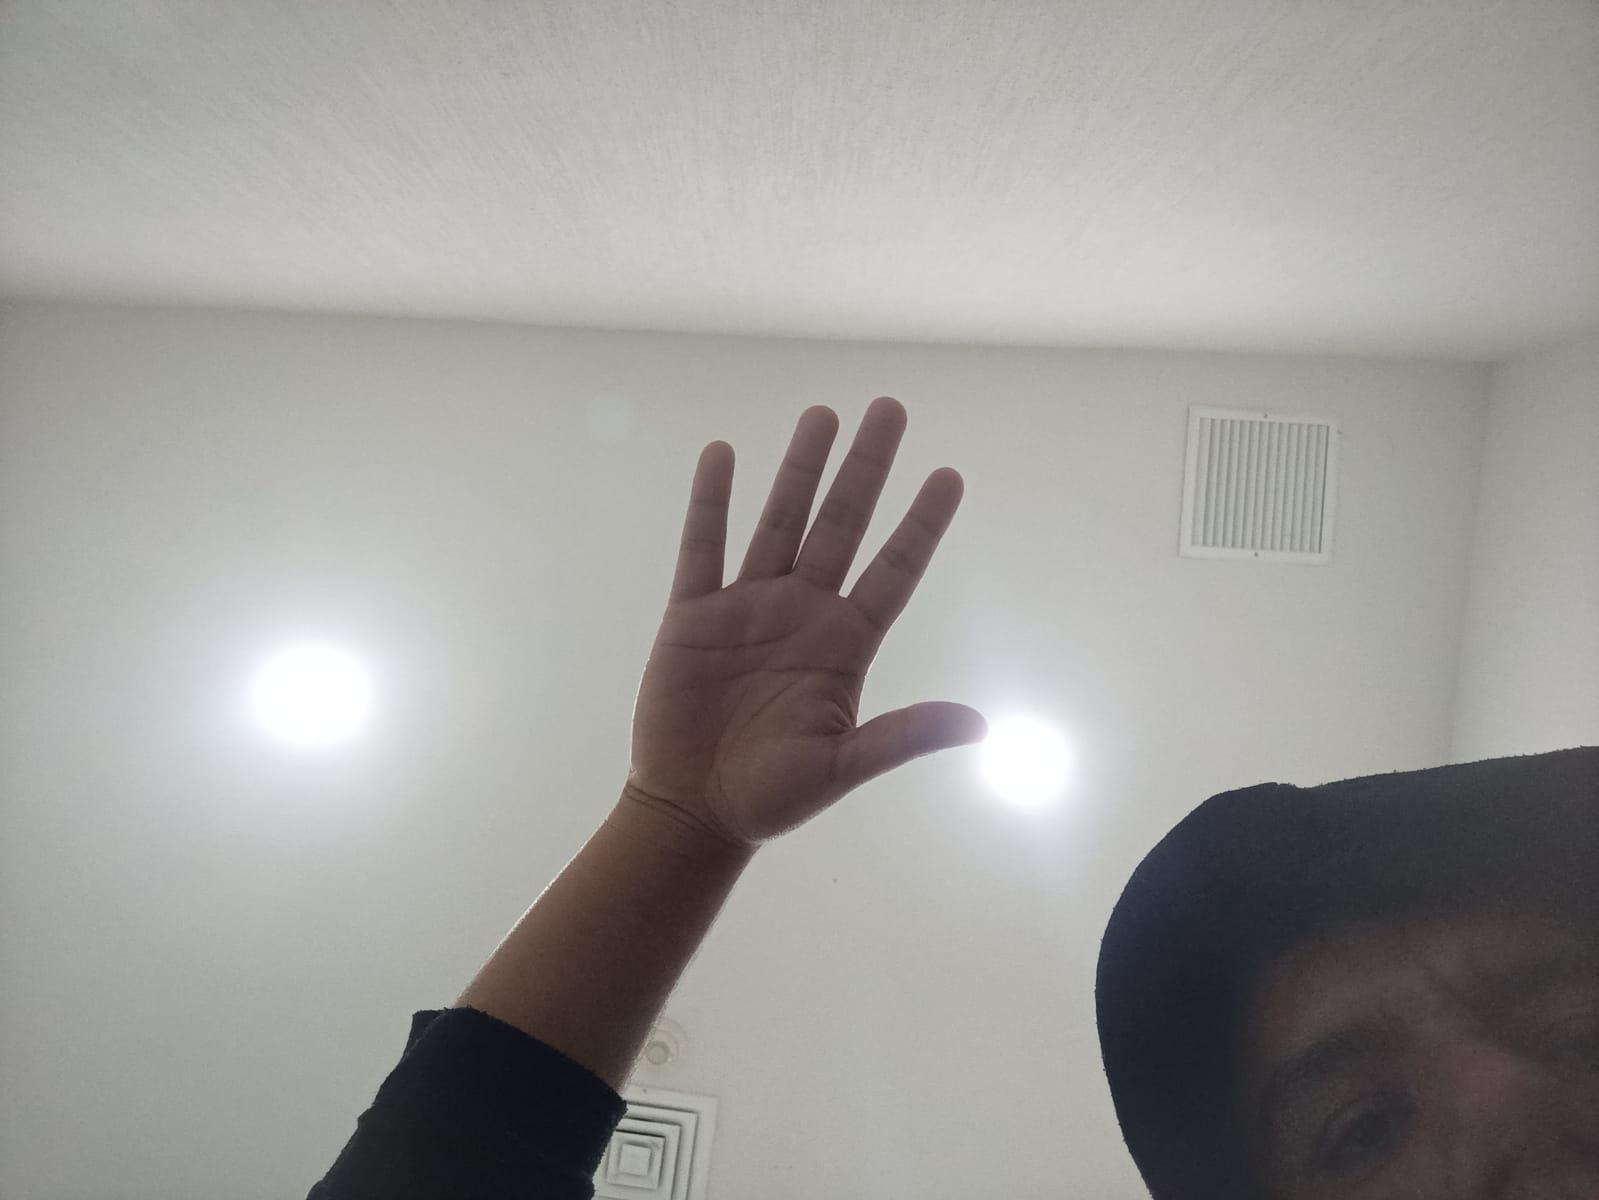Paper: (600, 384, 1037, 833)
